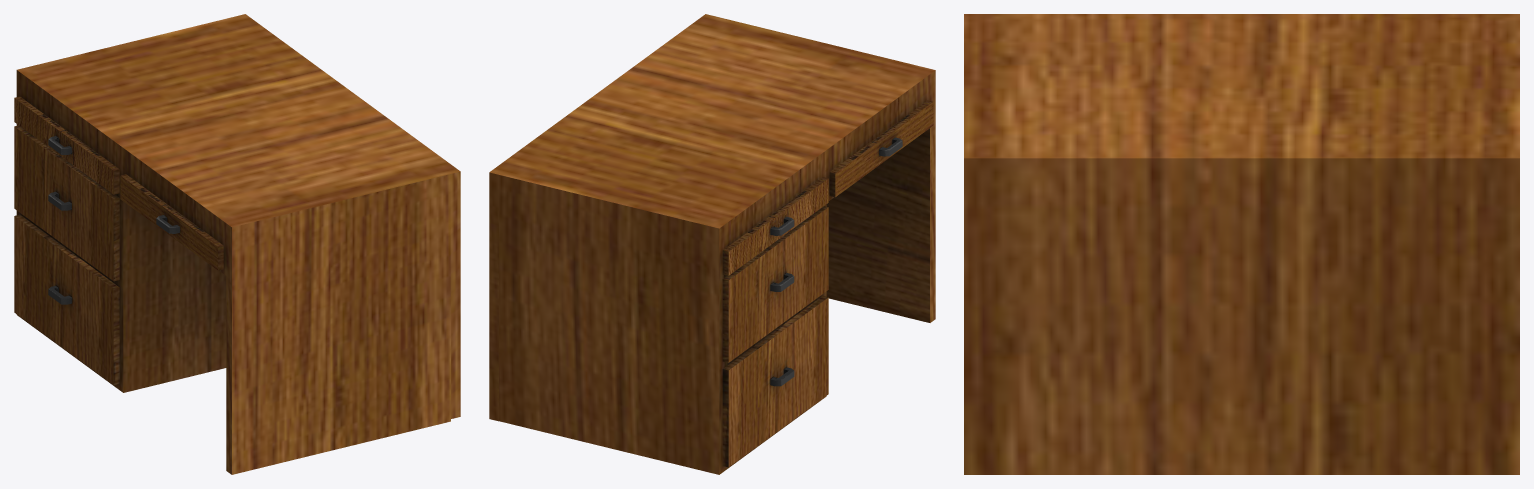
File: DeskExport.fbx
3 renders of one model, left to right at view 1: azimuth 30°, elevation 25°; view 2: azimuth 150°, elevation 25°; view 3: azimuth 270°, elevation 25°, orthographic. The views are drawn at different scales.
Visible parts, largest first — view 1: polySurface1; view 2: polySurface1; view 3: polySurface1.
Boxes of the visible parts, bbox=[...] form: polySurface1: bbox=[14, 14, 460, 474]; polySurface1: bbox=[489, 14, 935, 474]; polySurface1: bbox=[964, 14, 1519, 474].
Size of the model in its own units: 3.96 by 3.84 by 6.05.
